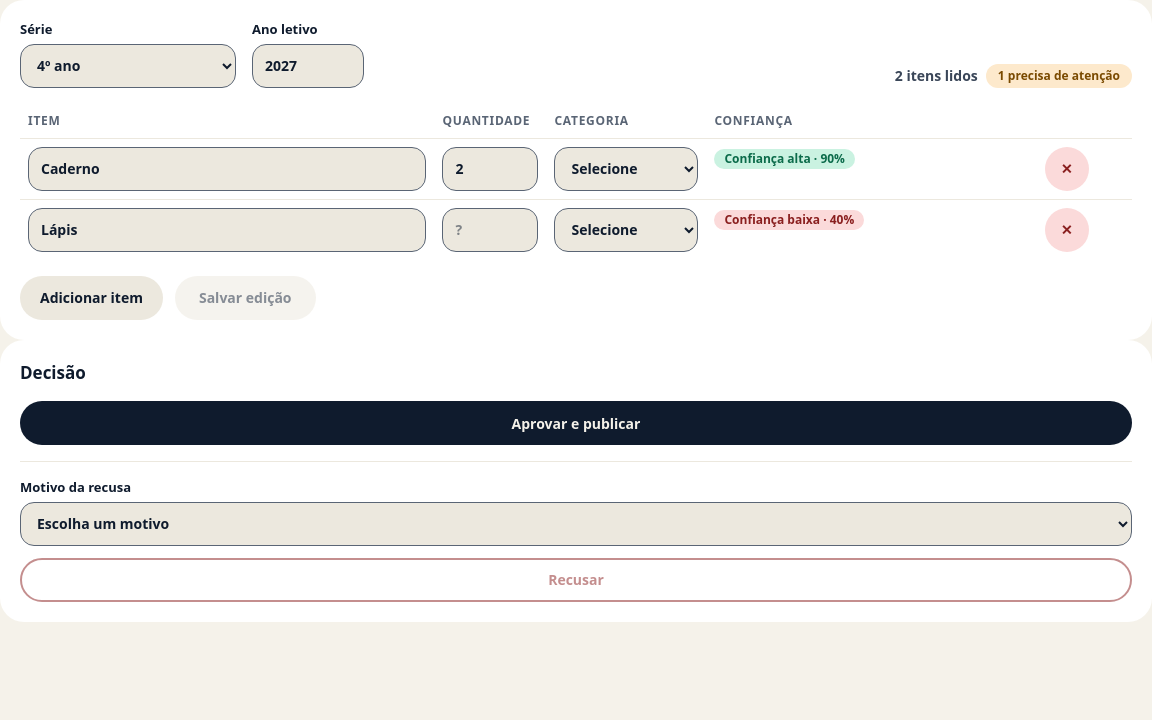
Test: ReviewItemsEditor › editar marca 'Edição não salva', bloqueia aprovar; salvar envia lista + versão esperada (sem actorId)
Expected: the button "Salvar edição" is disabled, [175,276,316,320]
Type "5" into the number field named "Quantidade do item 2" at coordinates (490, 230), box [442,208,538,252]
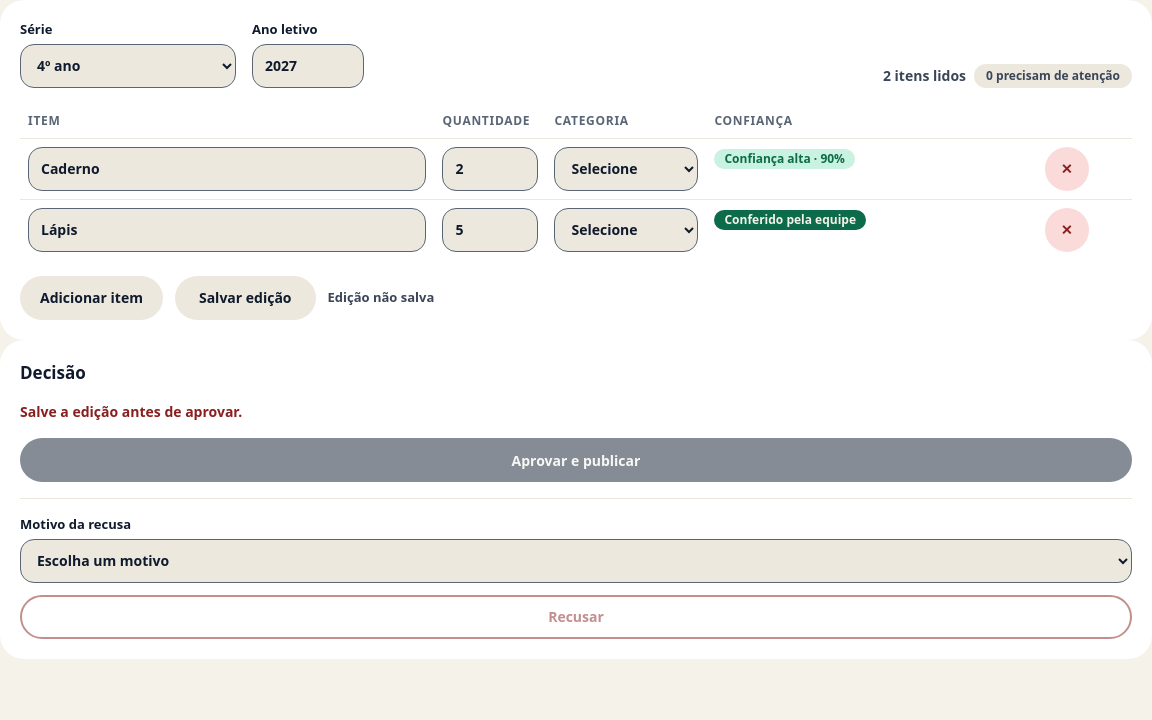
Result: the text "Edição não salva" is shown at [328,288,434,307]
Result: the text "Salve a edição antes de aprovar." is shown at [20,402,242,421]
Result: the button "Aprovar e publicar" is disabled at [20,438,1132,482]
Click the button "Salvar edição" at coordinates (245, 298), box [175,276,316,320]
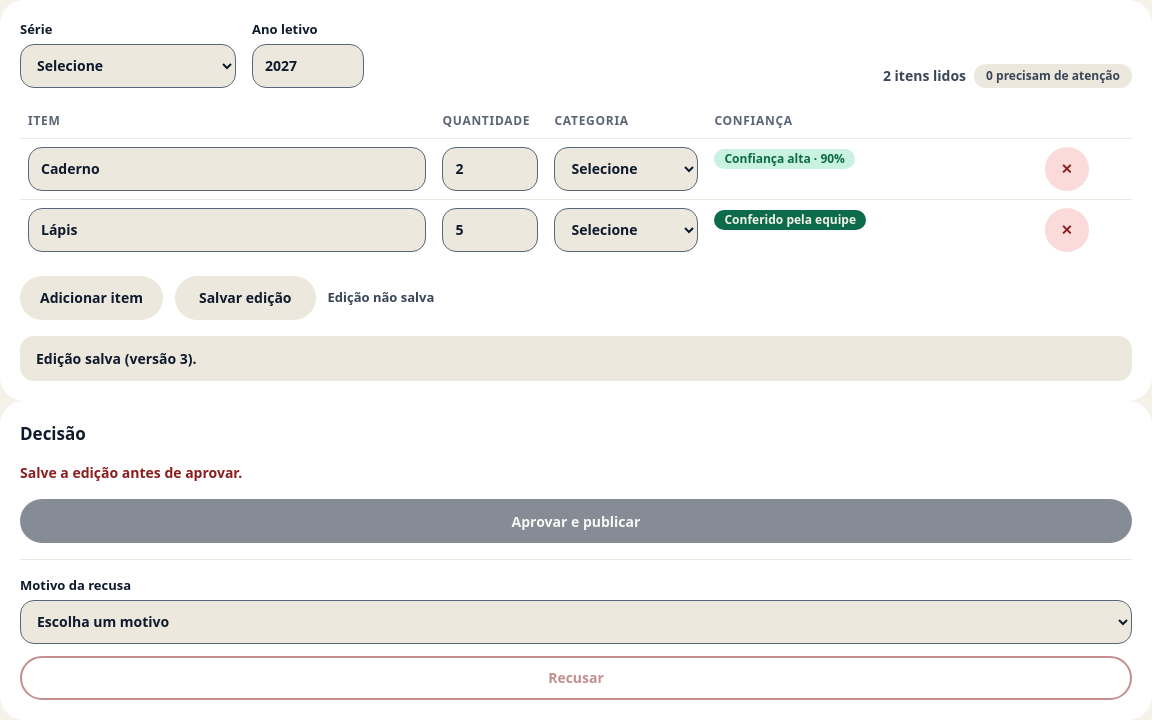
Result: the text "Edição salva (versão 3)." is shown at [20,336,1132,380]
